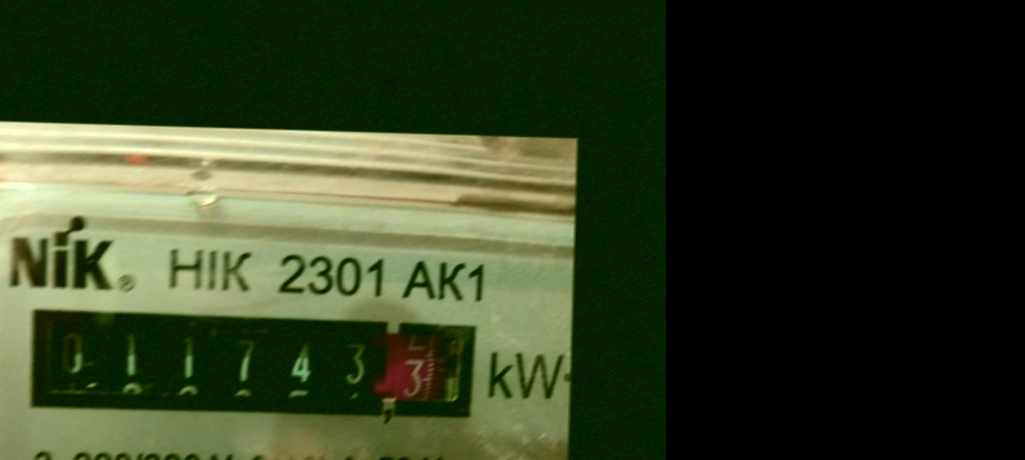0: (56, 328, 86, 376)
1: (176, 332, 198, 381), (121, 331, 139, 379)
3: (340, 339, 369, 387), (399, 355, 425, 400)
4: (286, 337, 315, 385)
7: (232, 336, 257, 385)
screen: (13, 299, 482, 430)
